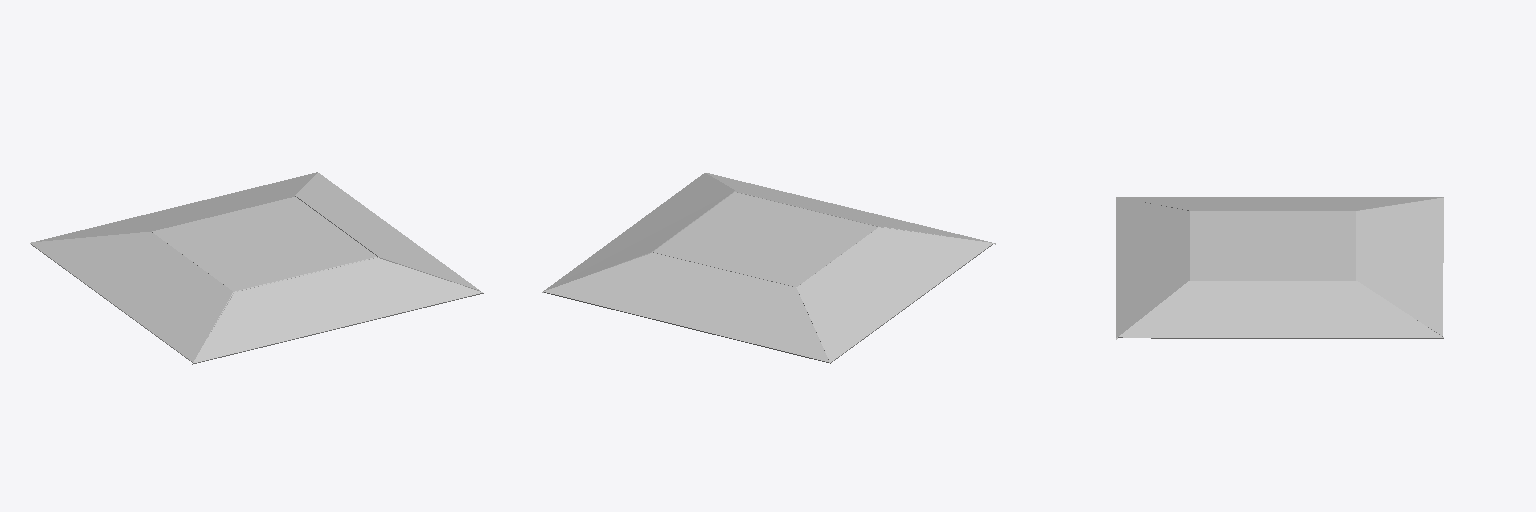
Rendered from skybox.obj.
The picture shows the model from 3 angles: view 1: azimuth 30°, elevation 25°; view 2: azimuth 150°, elevation 25°; view 3: azimuth 270°, elevation 25°; orthographic projection.
Visible parts, largest first — view 1: Cube_Cube.106; view 2: Cube_Cube.106; view 3: Cube_Cube.106.
Boxes of the visible parts, <box> form: Cube_Cube.106: <box>30,172,483,364</box>; Cube_Cube.106: <box>542,173,995,363</box>; Cube_Cube.106: <box>1116,197,1443,339</box>.
Size of the model in its own units: 532 by 45.68 by 521.